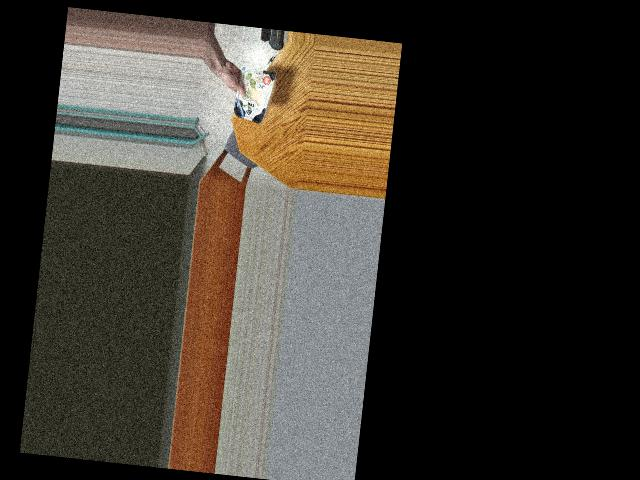cheese: (226, 73, 274, 120)
